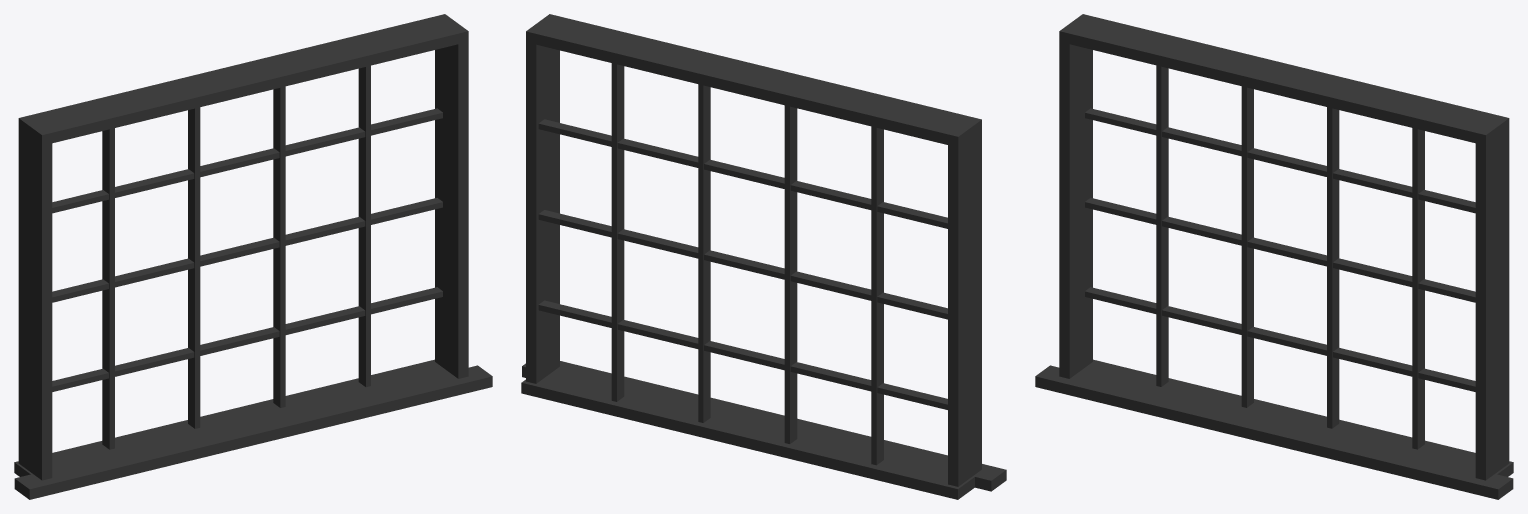
File: Window2_03.fbx
3 renders of one model, left to right at view 1: azimuth 30°, elevation 25°; view 2: azimuth 150°, elevation 25°; view 3: azimuth 330°, elevation 25°, orthographic.
Visible parts, largest first — view 1: Window2_03; view 2: Window2_03; view 3: Window2_03.
Boxes of the visible parts, left/top/right/bottom form: Window2_03: left=14, top=14, right=492, bottom=499; Window2_03: left=521, top=14, right=1006, bottom=499; Window2_03: left=1035, top=14, right=1513, bottom=499.
Bounding box in the file's own units: 228 × 168 × 27.
